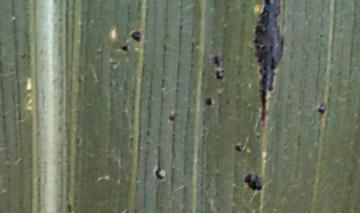tarspot: (252, 1, 285, 122), (243, 173, 264, 191), (130, 30, 143, 42), (154, 167, 164, 181), (316, 102, 326, 115), (212, 53, 221, 67), (214, 69, 225, 80), (65, 203, 74, 213), (168, 111, 176, 122), (204, 96, 212, 106), (120, 44, 129, 52), (19, 53, 29, 59), (234, 145, 241, 153)
